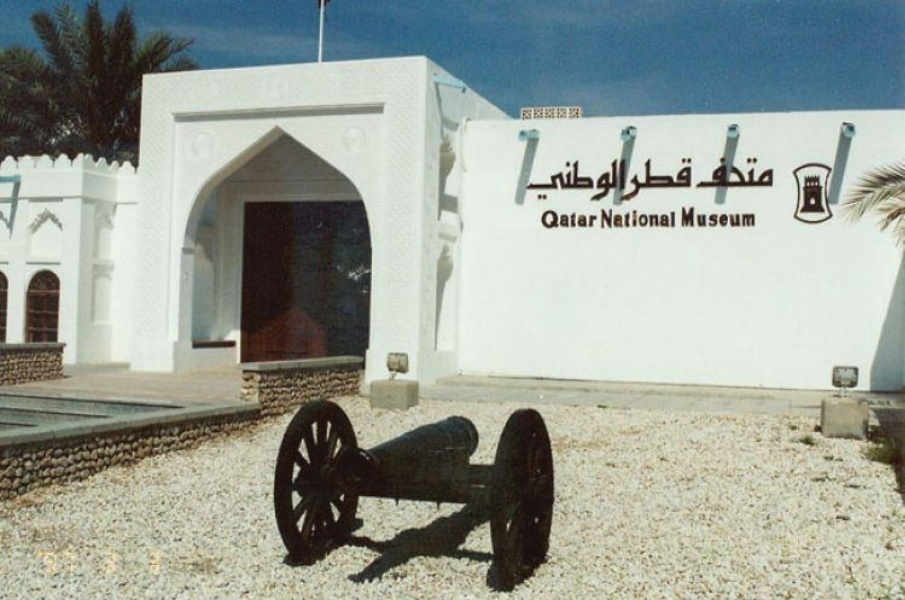text: (657, 142, 672, 208), (673, 142, 688, 208), (545, 156, 560, 211), (561, 156, 576, 211), (577, 156, 592, 211), (593, 156, 608, 211), (609, 156, 624, 211), (531, 156, 544, 211), (705, 154, 720, 190), (721, 154, 736, 190), (737, 154, 752, 190), (753, 154, 768, 190), (625, 156, 634, 211), (650, 142, 656, 208), (689, 205, 704, 230), (705, 205, 720, 230), (721, 205, 736, 230), (737, 205, 752, 230), (609, 207, 624, 231), (625, 207, 640, 231), (641, 207, 656, 231), (657, 207, 672, 231), (689, 142, 694, 208), (545, 209, 560, 231), (561, 209, 576, 231), (577, 209, 592, 231), (769, 154, 778, 190), (680, 205, 688, 230), (600, 207, 608, 231), (753, 205, 757, 230), (593, 209, 597, 231), (702, 154, 704, 190), (673, 207, 676, 231), (541, 209, 544, 231)
